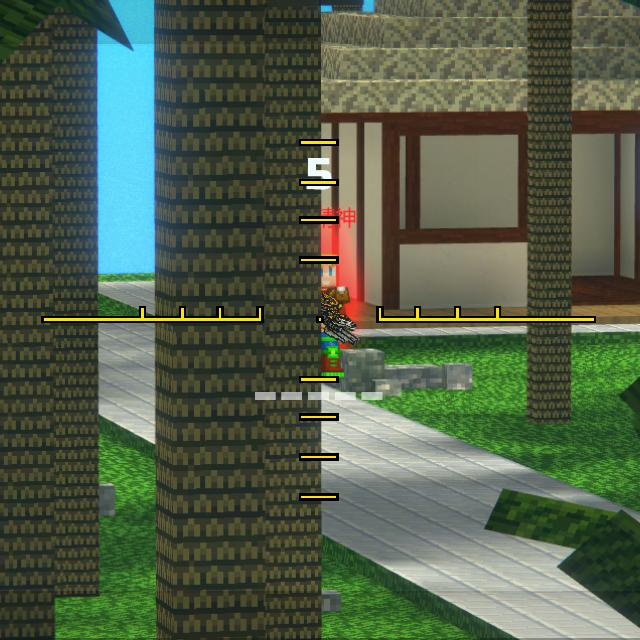Enemy: (321, 254, 357, 372)
